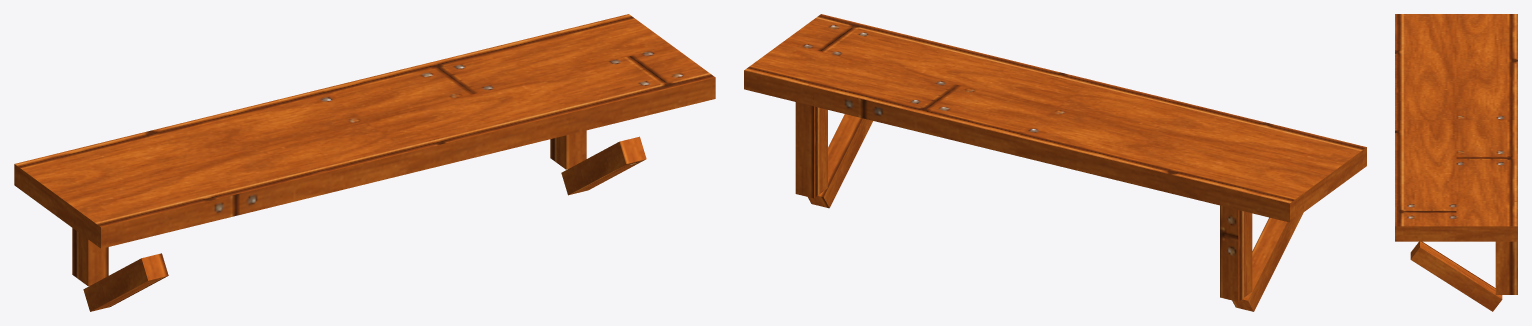
The model's file is Shelf_Wall.fbx.
3 renders of one model, left to right at view 1: azimuth 30°, elevation 25°; view 2: azimuth 150°, elevation 25°; view 3: azimuth 270°, elevation 25°, orthographic. The views are drawn at different scales.
Parts seen in each view (by area): view 1: Shelf_Wall; view 2: Shelf_Wall; view 3: Shelf_Wall.
Boxes of the visible parts, x1=… form: Shelf_Wall: x1=14, y1=14, x2=715, y2=311; Shelf_Wall: x1=744, y1=14, x2=1366, y2=311; Shelf_Wall: x1=1395, y1=14, x2=1517, y2=311.
Size of the model in its own units: 0.9 by 0.2089 by 0.22.
